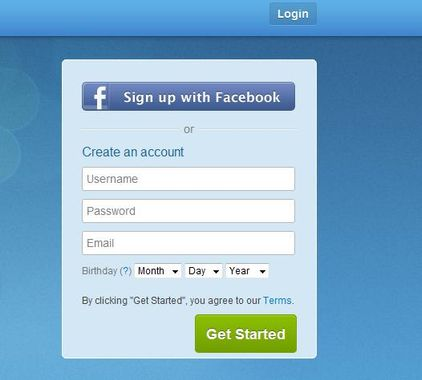_form_: (1, 1, 340, 380)
button: (81, 82, 296, 111), (194, 313, 297, 354), (269, 2, 317, 26)
field: (82, 166, 295, 192), (81, 199, 296, 224), (81, 231, 296, 255)
field_with_label: (81, 261, 185, 279)
select: (133, 262, 184, 279), (225, 263, 271, 280), (184, 262, 223, 280)
